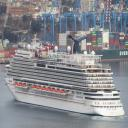cruises: (5, 32, 127, 120)
